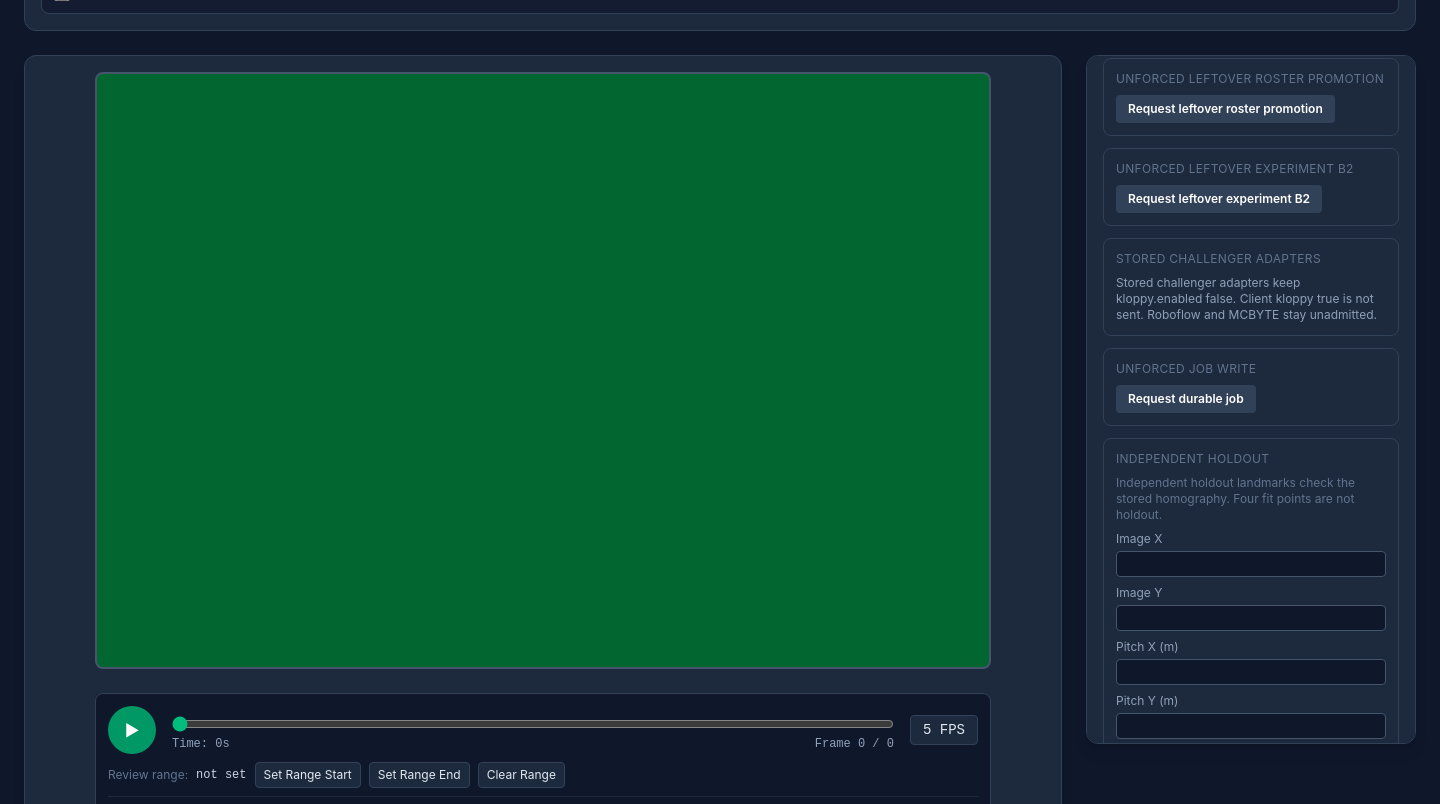
Test case: App leftover HTTP surfaces › loads stored challenger adapters and posts job timeout and lost-connection without inventing admission or completed work
(page scrolled)
expect the text "roboflow and MCBYTE stay unadmitted" is shown: met, box 1116,275 -> 1377,322
Step 1. Click the button "Request durable job" → (1186, 399), box 1116,385 -> 1256,413
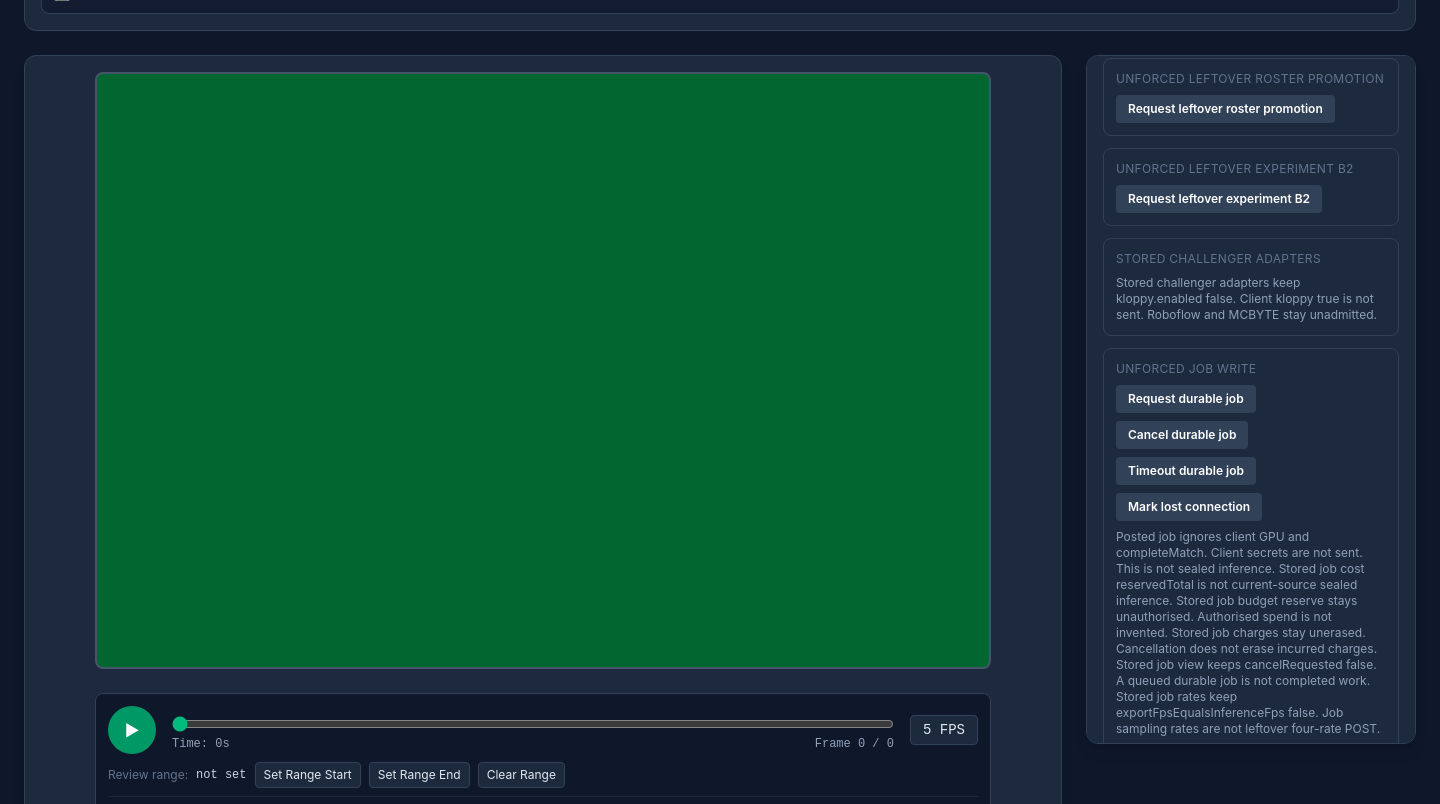
expect the button "Timeout durable job" is shown: met
Step 2. Click the button "Timeout durable job" → (1186, 471), box 1116,457 -> 1256,485
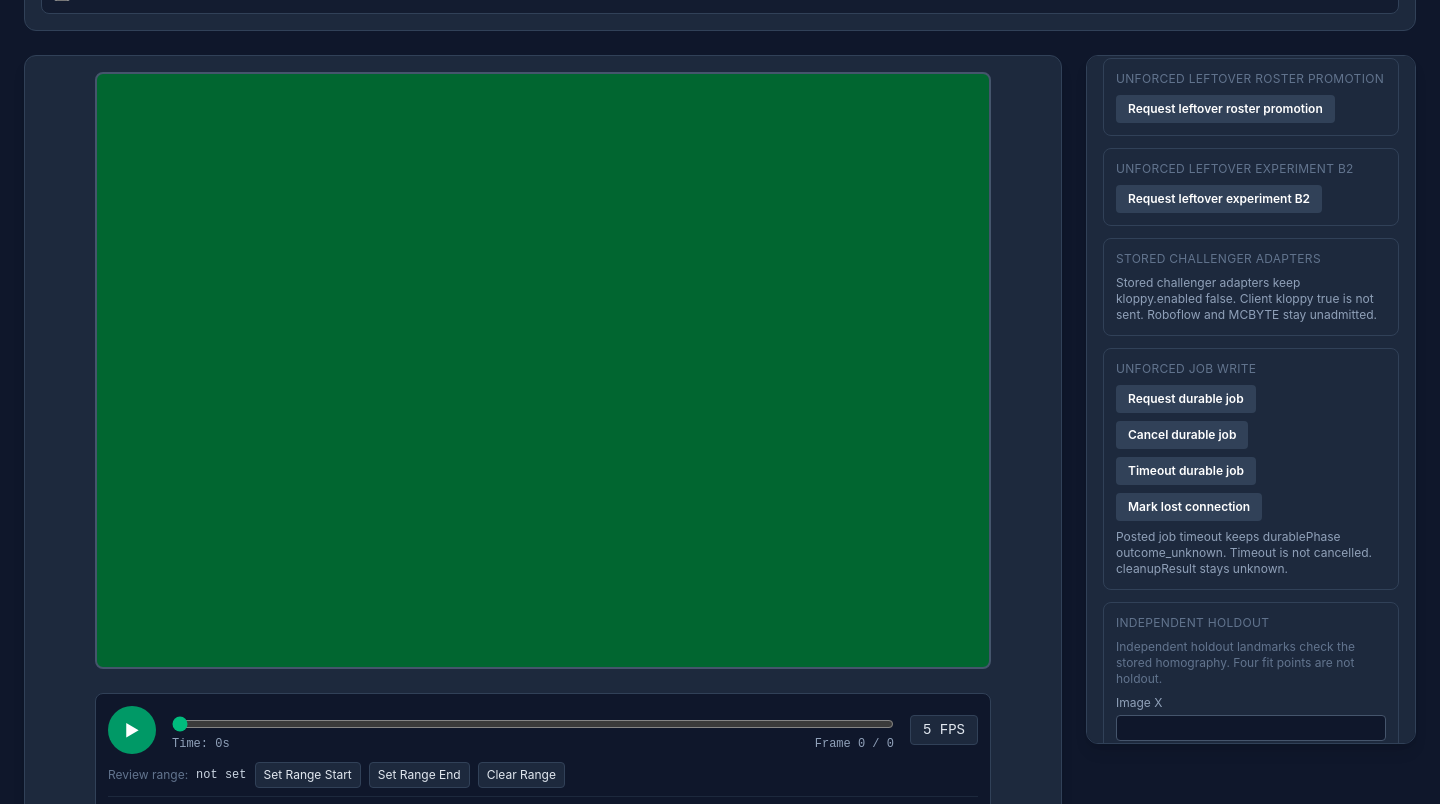
expect the text "cleanupResult stays unknown" is shown: met, box 1116,529 -> 1372,576
Step 3. Click the button "Mark lost connection" → (1189, 507), box 1116,493 -> 1262,521
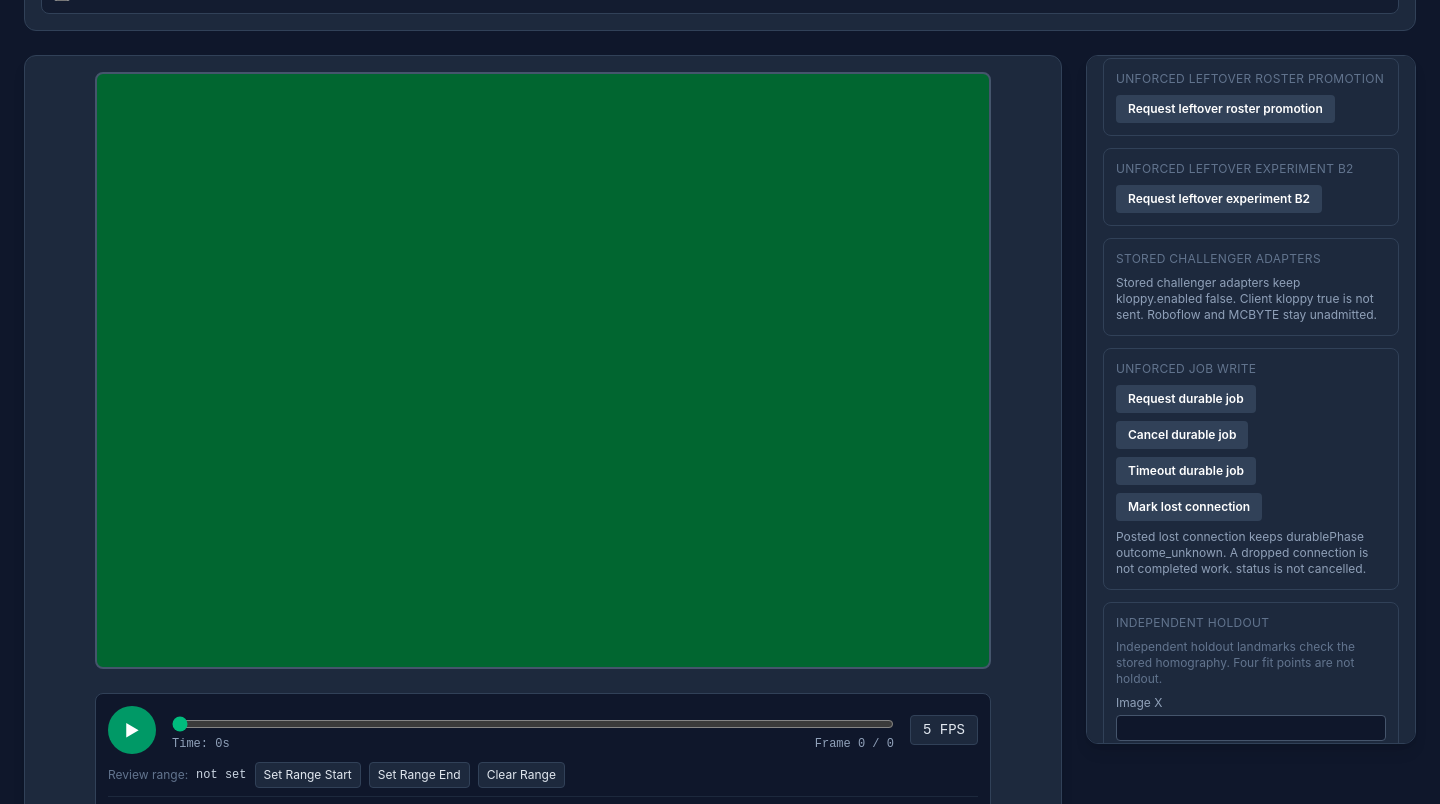
expect the text "status is not cancelled" is shown: met, box 1116,529 -> 1368,576
